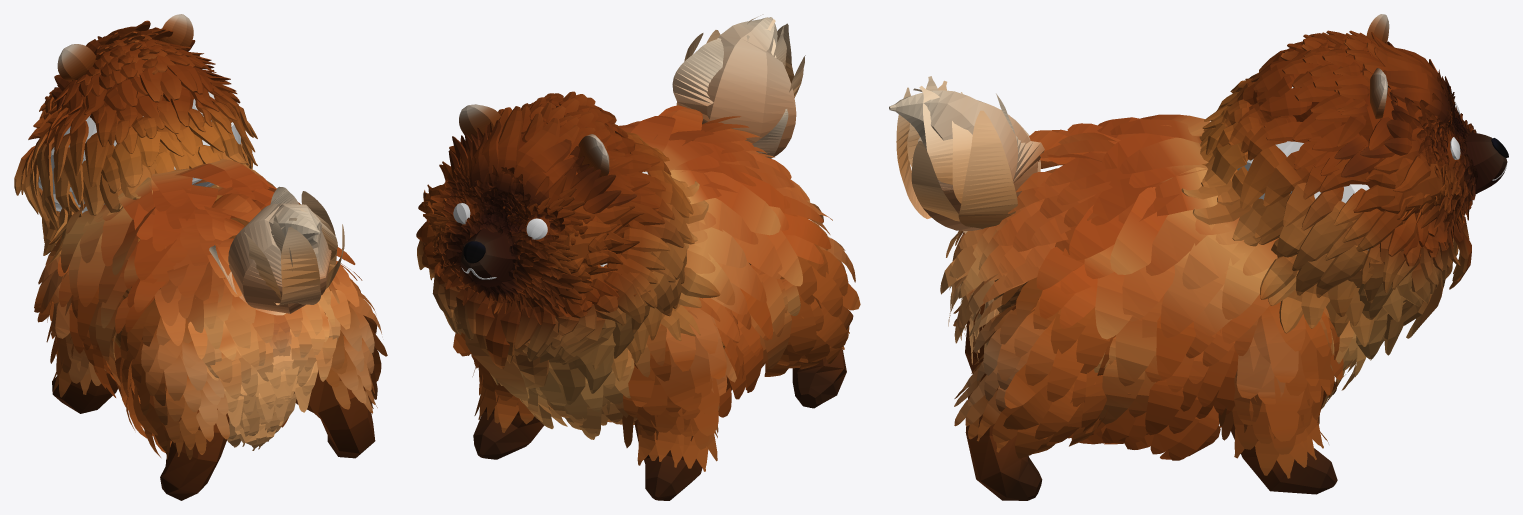
The model's file is Dog.fbx.
3 views of the same model, side by side, from view 1: azimuth 30°, elevation 25°; view 2: azimuth 150°, elevation 25°; view 3: azimuth 270°, elevation 25° (orthographic). The views are drawn at different scales.
Parts seen in each view (by area): view 1: Hair1, Hair-leg, Limb, Tail, Hair-tail, Head, Fluf; view 2: Hair1, Hair-leg, Tail, Limb, Head, Hair-tail, Face; view 3: Hair1, Hair-leg, Hair-tail, Limb, Tail, Head.
Boxes of the visible parts, box(x1,y1,x2,y2) form: Hair1: box(14, 20, 362, 450); Hair-leg: box(34, 255, 387, 459); Limb: box(52, 312, 375, 500); Tail: box(228, 203, 331, 313); Hair-tail: box(209, 186, 344, 315); Head: box(57, 14, 194, 111); Fluf: box(38, 92, 241, 213); Hair1: box(416, 91, 832, 439); Hair-leg: box(453, 218, 860, 471); Tail: box(678, 17, 796, 158); Limb: box(473, 300, 846, 500); Head: box(459, 104, 609, 294); Hair-tail: box(672, 14, 805, 158); Face: box(453, 203, 547, 279); Hair1: box(940, 30, 1477, 460); Hair-leg: box(953, 277, 1343, 478); Hair-tail: box(896, 76, 1044, 233); Limb: box(965, 299, 1337, 500); Tail: box(889, 90, 1037, 230); Head: box(1279, 14, 1508, 213).
Bounding box in the file's own units: 8.37 × 11.03 × 14.8.
